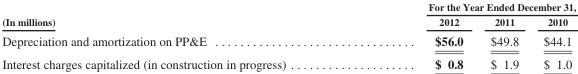table: (1, 0, 575, 70)
table column: (1, 0, 356, 70), (356, 0, 476, 70), (476, 0, 530, 70), (530, 0, 575, 70)
table column header: (1, 0, 575, 30)
table row: (1, 30, 575, 52), (1, 52, 575, 70), (1, 14, 575, 30), (1, 0, 575, 14)
table spanning cell: (1, 0, 356, 30), (356, 0, 575, 14)
